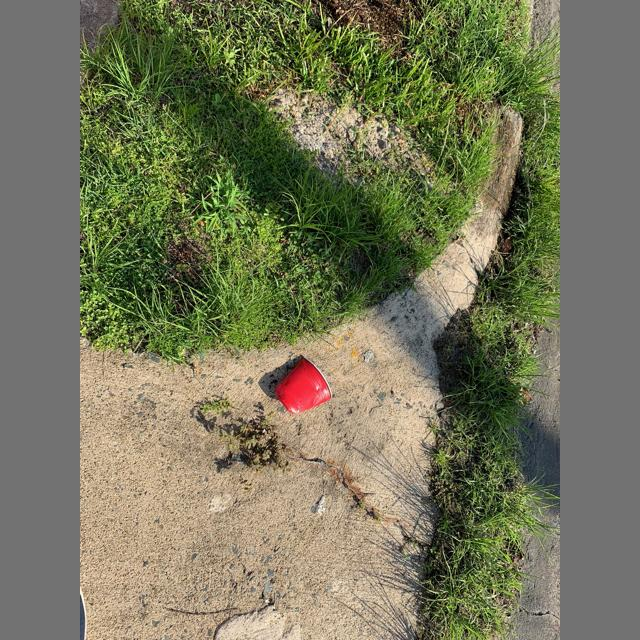litter: (275, 357, 332, 414)
